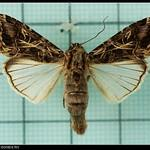Spodoptera litura: (1, 14, 150, 135)
